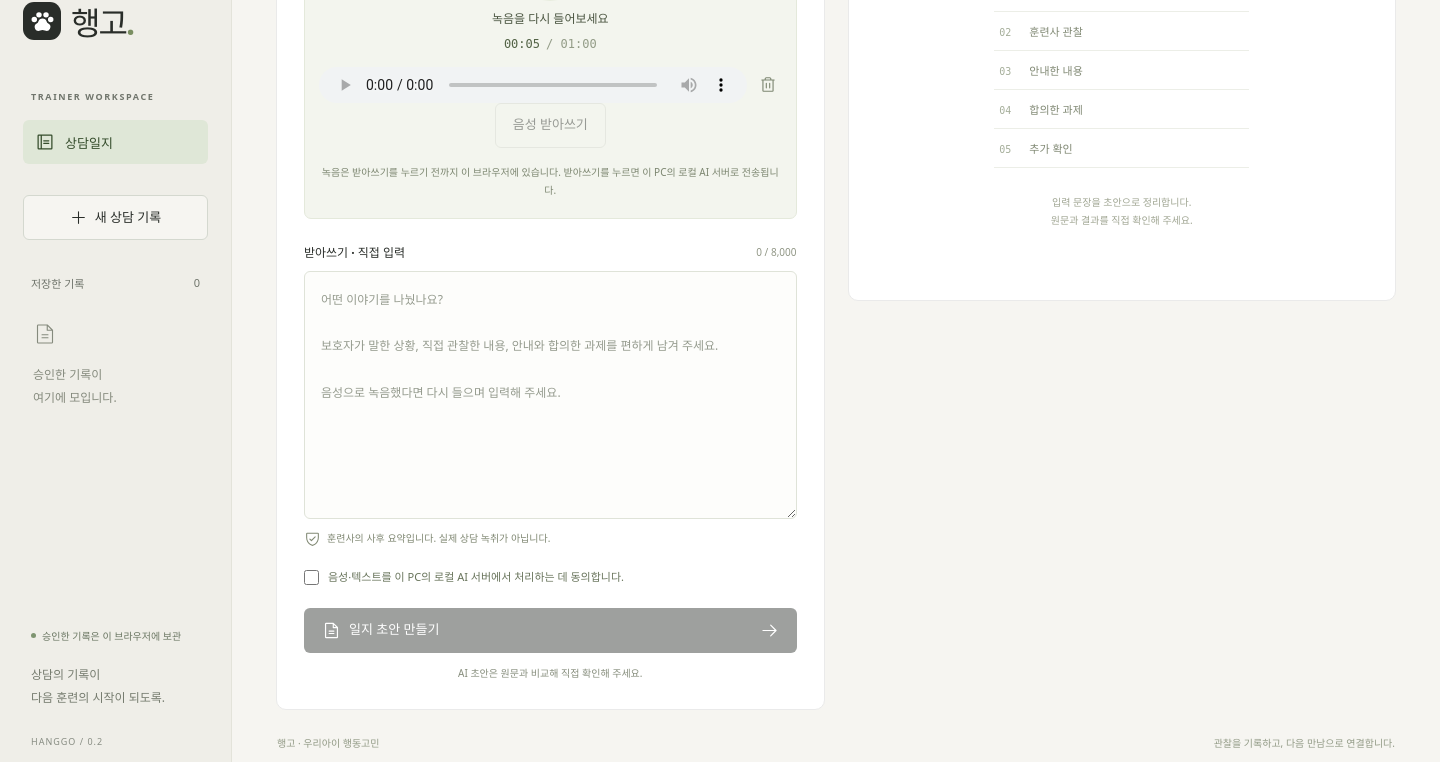
it: requires fresh transcript confirmation after edits
The width and height of the screenshot is (1440, 762).
(page scrolled)
Click the checkbox labelled "음성·텍스트를 이 PC의 로컬 AI 서버에서 처리하는 데 동의합니다.". click: (312, 577)
box: [304,570,319,585]
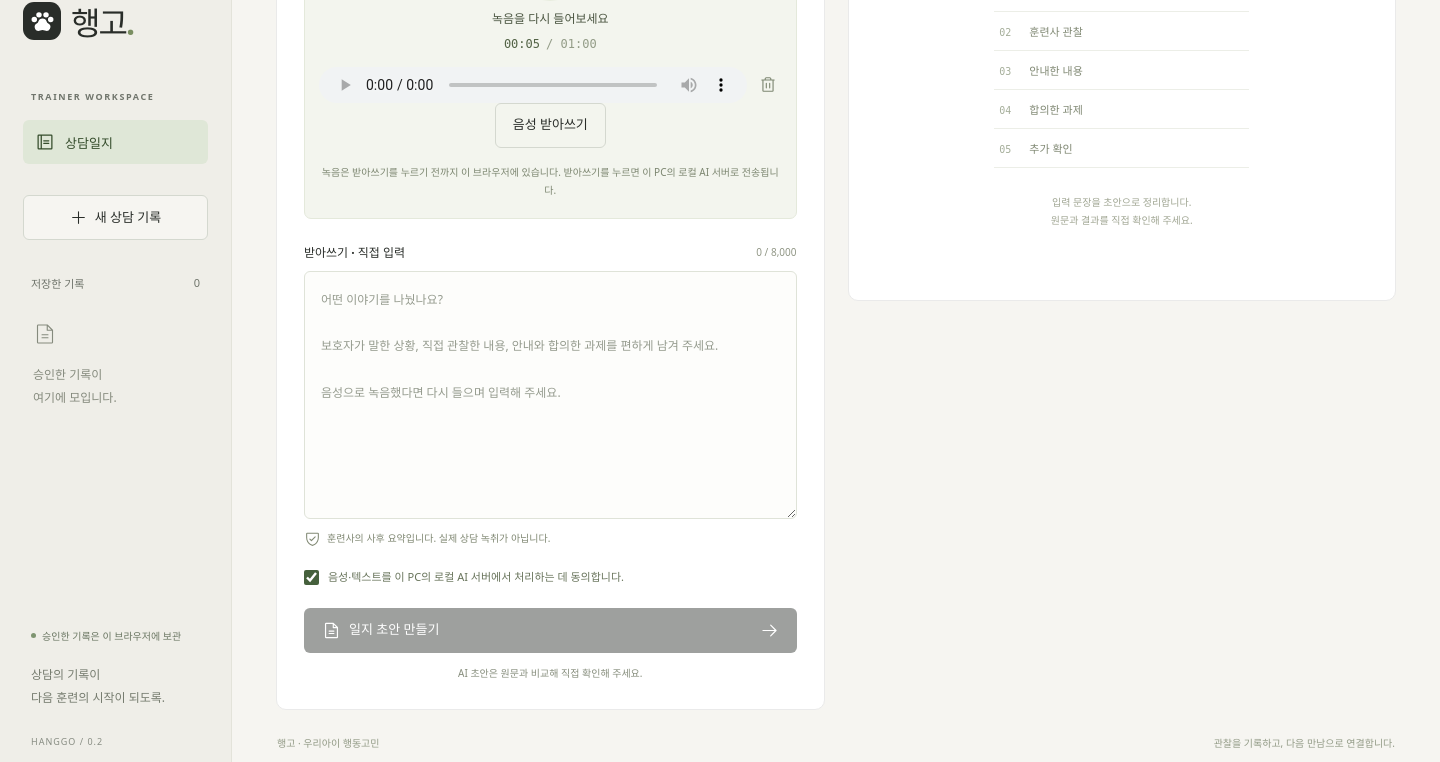
Click the button "음성 받아쓰기". click: (550, 125)
box: [495,103,606,148]
(page scrolled)
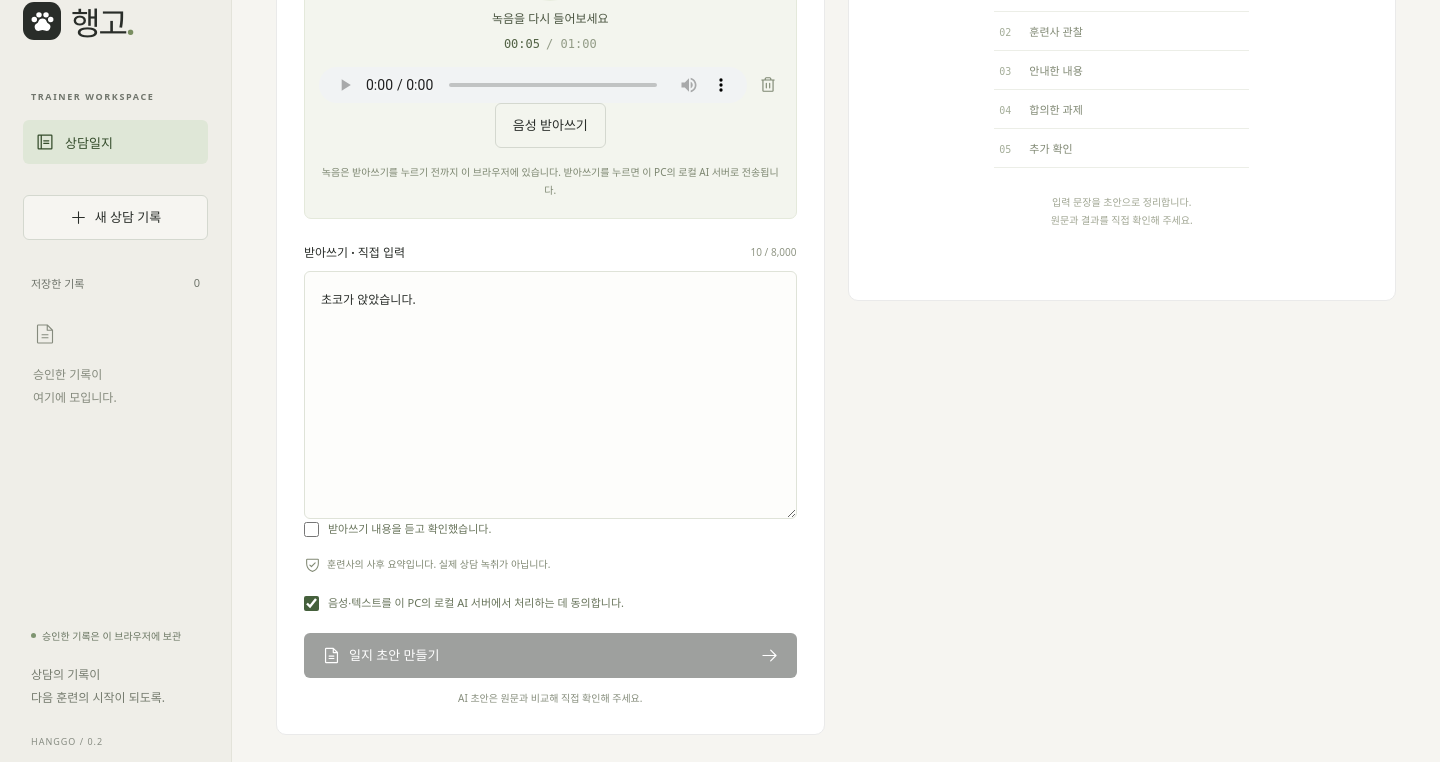
Expected: the button "일지 초안 만들기" is disabled, [304,634,796,678]
Expected: the checkbox labelled "받아쓰기 내용을 듣고 확인했습니다." is shown
Click the checkbox labelled "받아쓰기 내용을 듣고 확인했습니다.". click: (312, 529)
box: [304,522,319,537]
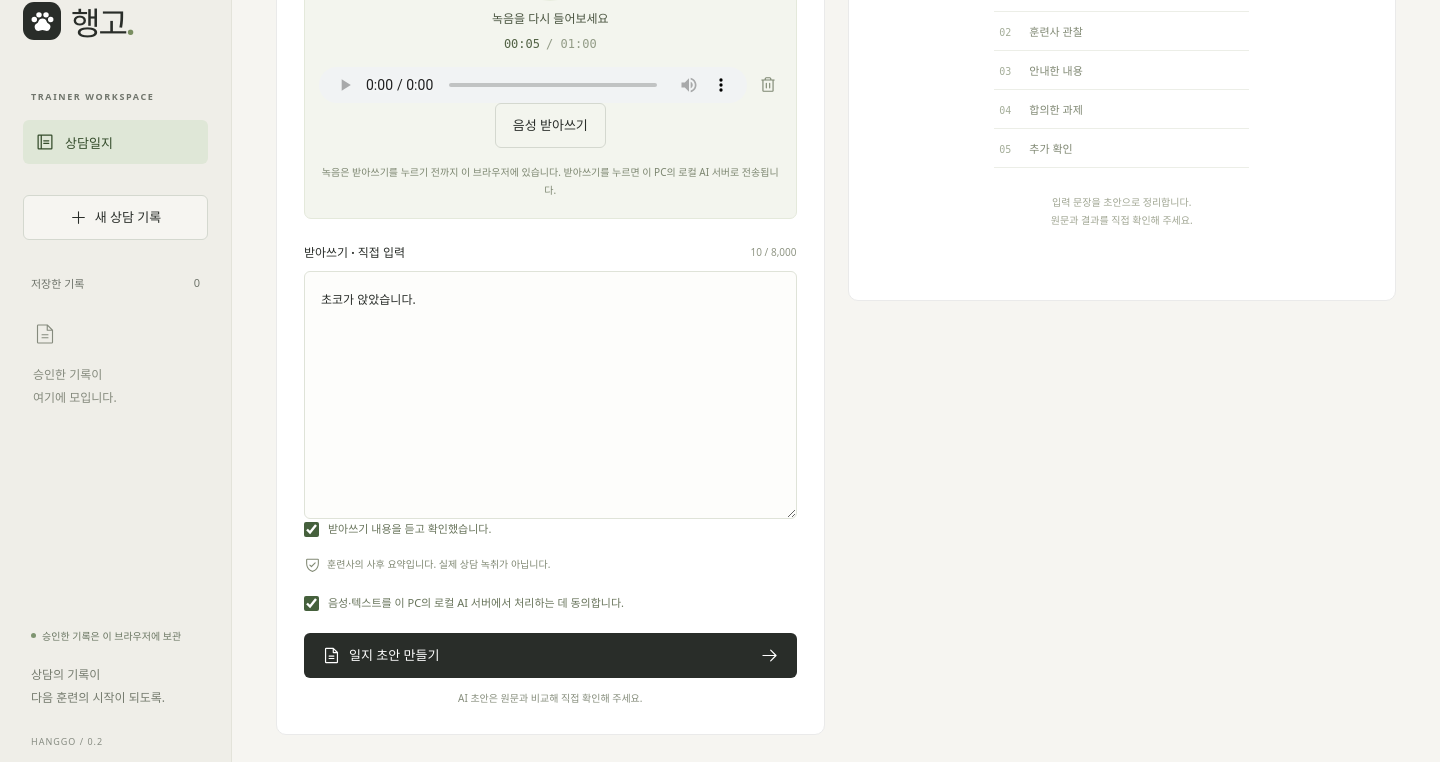
Expected: the button "일지 초안 만들기" is enabled, [304,634,796,678]
Replace the text in the text box named "상담 요약 원문" with "초코가 앉았습니다. 수정". click: (550, 395)
box: [304,271,796,519]
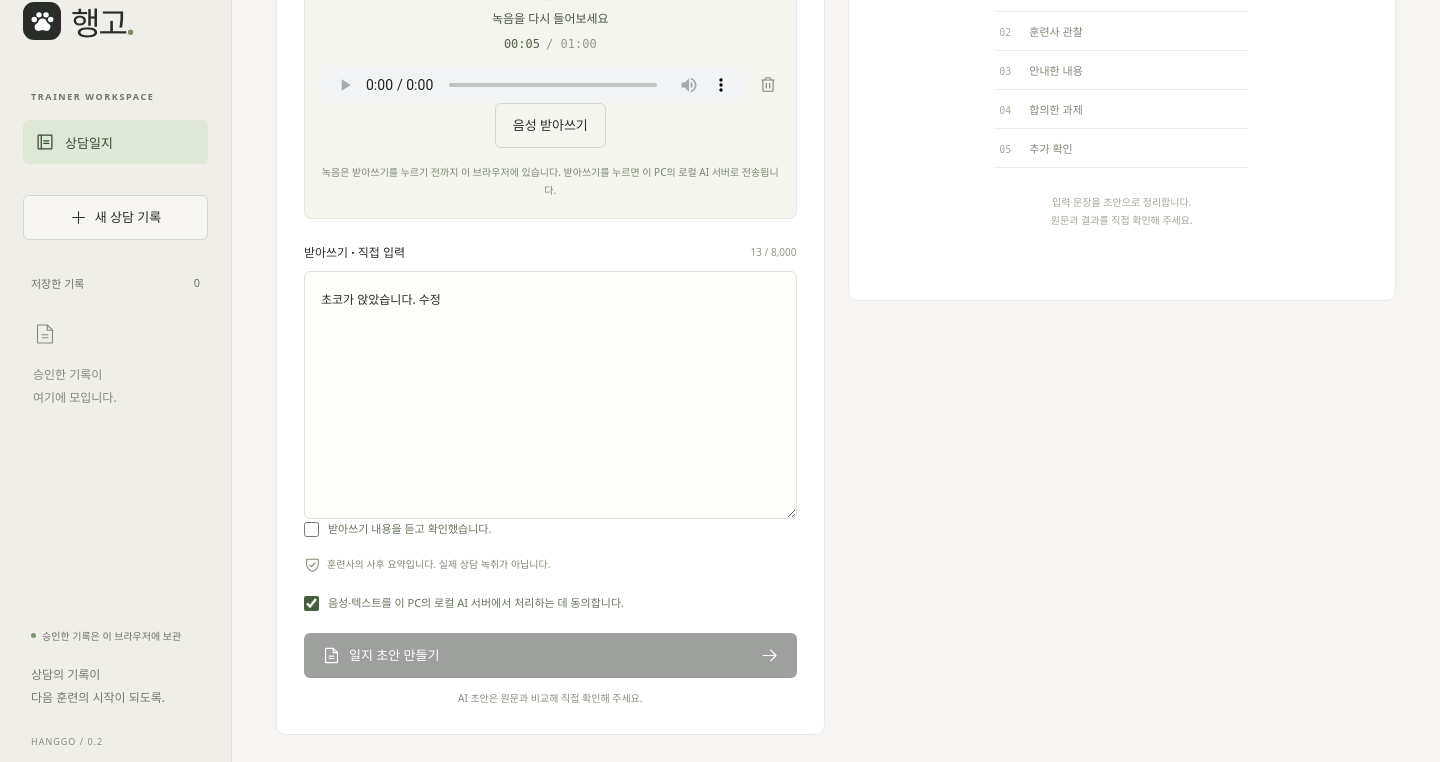
Expected: the button "일지 초안 만들기" is disabled, [304,634,796,678]
